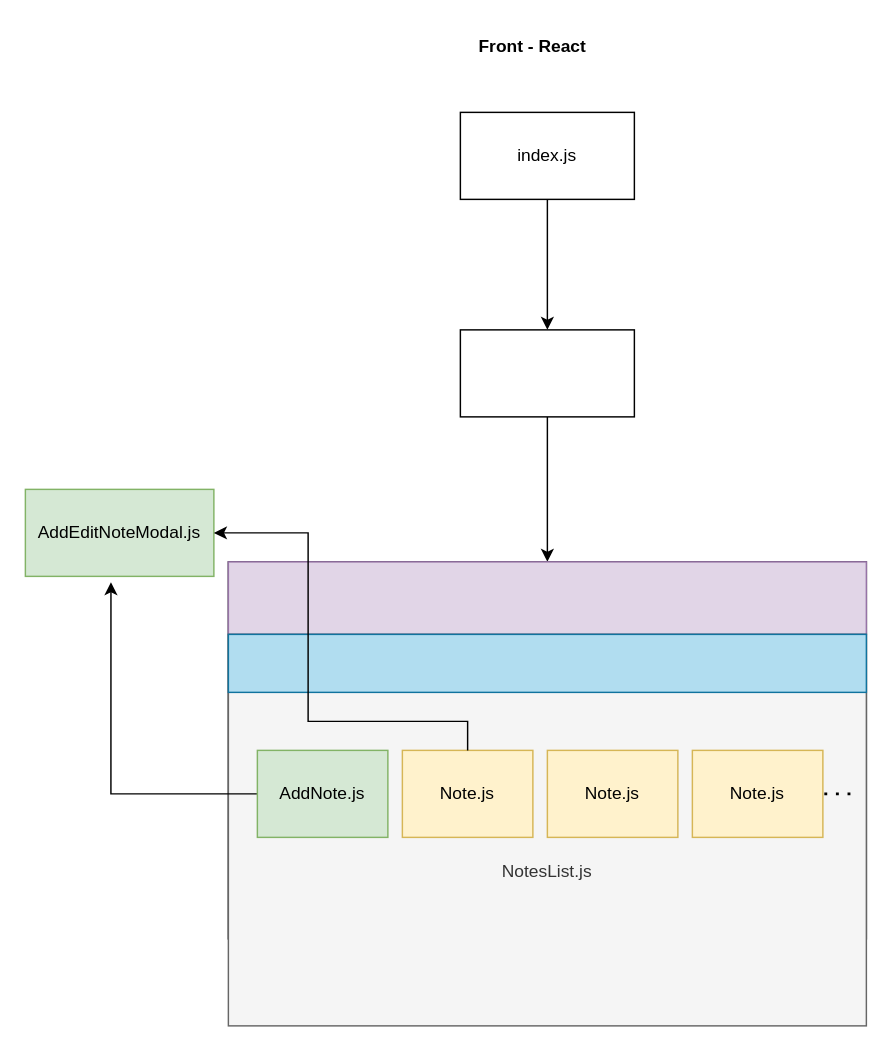
The diagram is 892 pixels wide and 1051 high, and some of its shapes have lost their labels. The shapes that lost their labels are listed below. From the top down, each one's box as (x1, y1, x2, y2) in pixels, then its label:
(459, 328, 634, 417): App.js
(227, 560, 866, 634): TopBar.js
(227, 633, 866, 692): SearchNote.js
